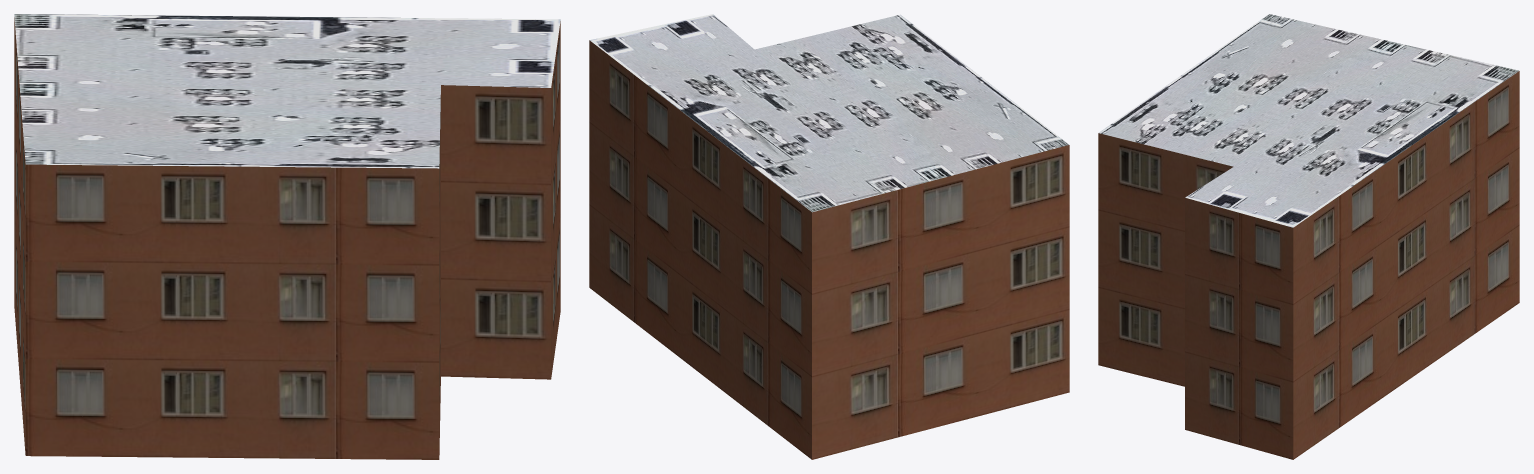
File: ResTex__3055.fbx
The picture shows the model from 3 angles, left to right: view 1: azimuth 30°, elevation 25°; view 2: azimuth 150°, elevation 25°; view 3: azimuth 270°, elevation 25°; orthographic projection. The views are drawn at different scales.
Visible parts, largest first — view 1: CityEngineMaterial_20_m, CityEngineMaterial_m; view 2: CityEngineMaterial_20_m, CityEngineMaterial_m; view 3: CityEngineMaterial_20_m, CityEngineMaterial_m.
Boxes of the visible parts, <box> form: CityEngineMaterial_20_m: <box>14,17,560,459</box>; CityEngineMaterial_m: <box>14,14,560,168</box>; CityEngineMaterial_20_m: <box>589,40,1069,459</box>; CityEngineMaterial_m: <box>590,14,1068,212</box>; CityEngineMaterial_20_m: <box>1098,71,1519,459</box>; CityEngineMaterial_m: <box>1099,14,1519,227</box>.
Size of the model in its own units: 17.78 by 9 by 14.81.
2 materials, 2 textured.
